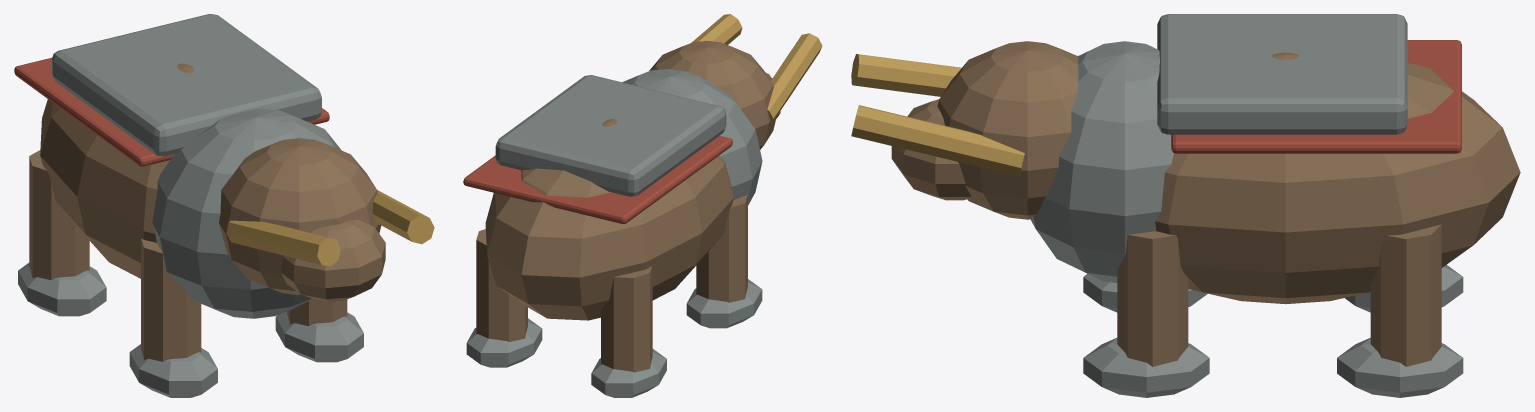
File: unit-siege-beast.glb
3 views of the same model, side by side, from view 1: azimuth 30°, elevation 25°; view 2: azimuth 150°, elevation 25°; view 3: azimuth 270°, elevation 25° (orthographic). The views are drawn at different scales.
Visible parts, largest first — view 1: siege saddle, armoured chest, broad beast head, massive quadruped body, muzzle, armoured leg, armoured leg.001, red command blanket, broad hoof.001, broad hoof.002, broad hoof, left charge horn (+2 smaller); view 2: massive quadruped body, siege saddle, red command blanket, broad beast head, armoured chest, armoured leg.001, armoured leg, armoured leg.003, broad hoof, broad hoof.003, broad hoof.001, left charge horn (+1 smaller); view 3: massive quadruped body, siege saddle, armoured chest, broad beast head, red command blanket, armoured leg.003, armoured leg.002, right charge horn, broad hoof.002, broad hoof.003, muzzle, left charge horn (+2 smaller).
Boxes of the visible parts, x1,y1,x2,y2 form: siege saddle: (52,14,321,156); armoured chest: (152,108,341,318); broad beast head: (219,138,381,294); massive quadruped body: (40,63,194,278); muzzle: (280,219,385,301); armoured leg: (141,238,201,361); armoured leg.001: (29,150,89,280); red command blanket: (14,57,329,166); broad hoof.001: (18,263,106,316); broad hoof.002: (275,311,363,362); broad hoof: (129,344,217,397); left charge horn: (226,220,340,266); massive quadruped body: (485,119,733,320); siege saddle: (495,75,726,196); red command blanket: (463,135,732,223); broad beast head: (649,40,776,149); armoured chest: (622,69,762,205); armoured leg.001: (601,266,652,372); armoured leg: (696,195,747,302); armoured leg.003: (476,229,527,341); broad hoof: (686,279,762,328); broad hoof.003: (466,318,542,367); broad hoof.001: (591,349,666,397); left charge horn: (767,33,822,125); massive quadruped body: (1155,52,1520,304); siege saddle: (1157,14,1407,134); armoured chest: (1030,41,1173,282); broad beast head: (937,41,1078,219); red command blanket: (1171,40,1461,153); armoured leg.003: (1370,224,1441,366); armoured leg.002: (1117,231,1188,366); right charge horn: (851,105,1024,176); broad hoof.002: (1083,338,1209,397); broad hoof.003: (1337,338,1463,397); muzzle: (891,99,971,200); left charge horn: (851,54,961,96).
Size of the model in its own units: 1.84 by 2.14 by 4.33.
